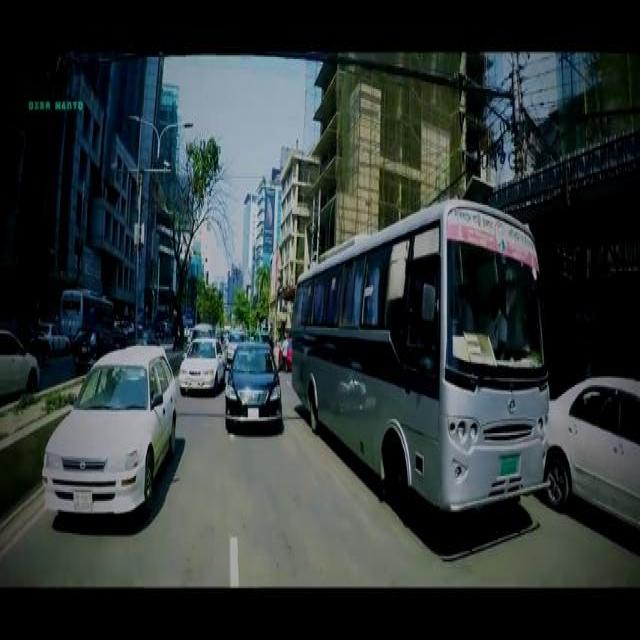5: (40, 342, 178, 512), (553, 372, 639, 528), (222, 337, 282, 421), (0, 325, 38, 393), (178, 335, 225, 387), (69, 324, 119, 366)
Truck: (290, 196, 550, 512), (59, 284, 112, 334)
